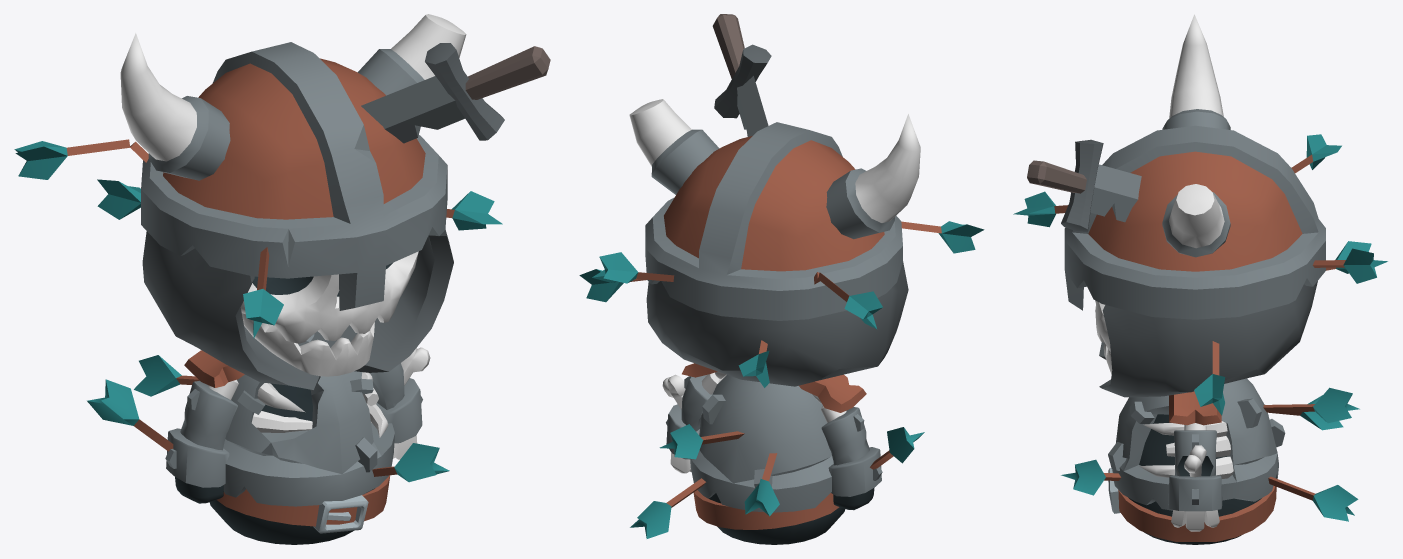
Rendered from character_skeleton_warrior_broken.dae.
3 renders of one model, left to right at view 1: azimuth 30°, elevation 25°; view 2: azimuth 150°, elevation 25°; view 3: azimuth 270°, elevation 25°, orthographic. The views are drawn at different scales.
Parts seen in each view (by area): view 1: character_skeleton_warrior_helmet_broken, character_skeleton_warrior_body_broken, character_skeleton_warrior_armRight_broken, character_skeleton_warrior_head_broken, character_skeleton_warrior_jaw_broken, character_skeleton_warrior_armLeft_broken; view 2: character_skeleton_warrior_helmet_broken, character_skeleton_warrior_body_broken, character_skeleton_warrior_armRight_broken, character_skeleton_warrior_armLeft_broken; view 3: character_skeleton_warrior_helmet_broken, character_skeleton_warrior_body_broken, character_skeleton_warrior_armLeft_broken.
Boxes of the visible parts, <box> form: character_skeleton_warrior_helmet_broken: <box>14,14,550,389</box>; character_skeleton_warrior_body_broken: <box>134,334,449,544</box>; character_skeleton_warrior_armRight_broken: <box>87,350,244,503</box>; character_skeleton_warrior_head_broken: <box>240,251,418,343</box>; character_skeleton_warrior_jaw_broken: <box>241,313,374,376</box>; character_skeleton_warrior_armLeft_broken: <box>369,347,430,459</box>; character_skeleton_warrior_helmet_broken: <box>579,14,984,387</box>; character_skeleton_warrior_body_broken: <box>630,375,845,544</box>; character_skeleton_warrior_armRight_broken: <box>799,374,924,510</box>; character_skeleton_warrior_armLeft_broken: <box>662,363,726,473</box>; character_skeleton_warrior_helmet_broken: <box>1013,14,1387,415</box>; character_skeleton_warrior_body_broken: <box>1061,378,1359,544</box>; character_skeleton_warrior_armLeft_broken: <box>1168,391,1222,531</box>.
Size of the model in its own units: 1.7 by 1.56 by 2.02.
